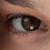eye: (22, 16, 39, 31)
